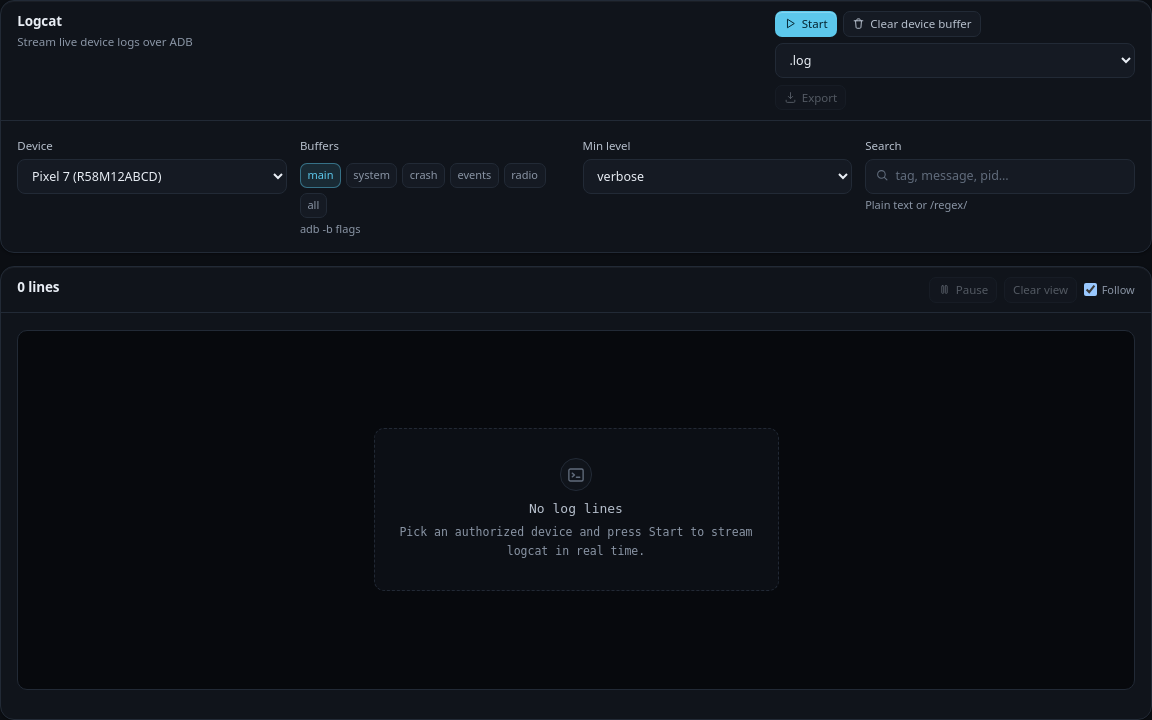
Test: LogcatView export › sends the selected format and the structured lines over IPC
This screenshot has width=1152, height=720.
Click the button "Start" at (806, 24), box x1=775 y1=11 x2=837 y2=37
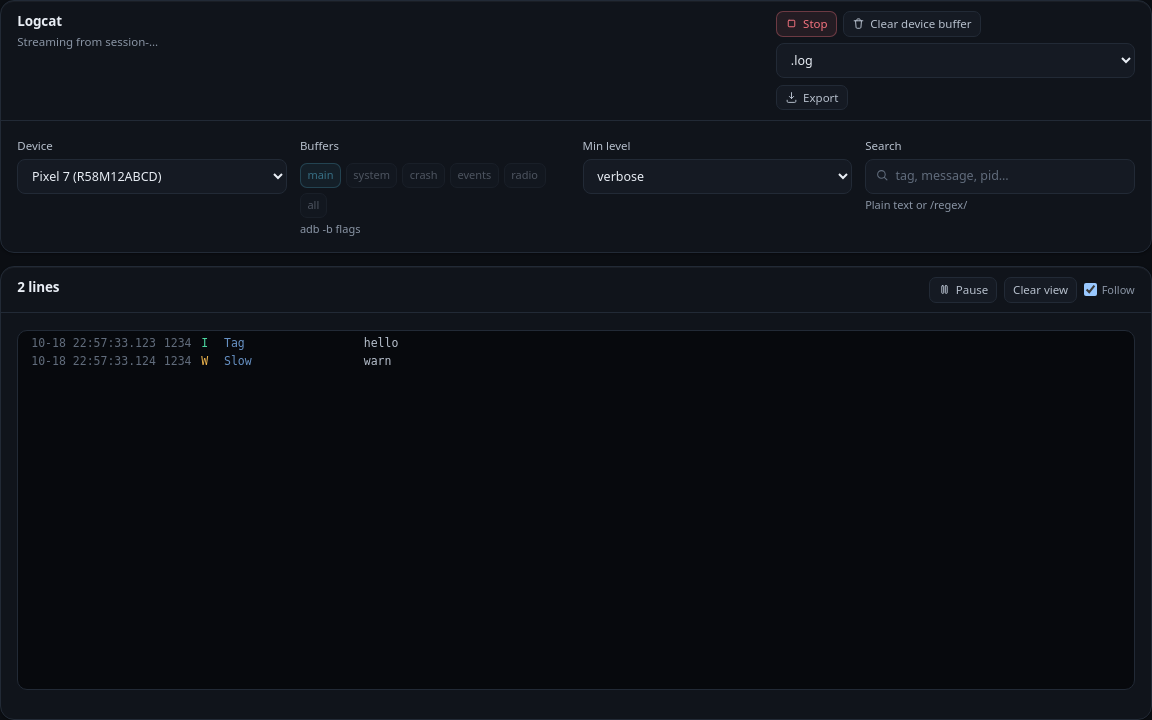
Expected: the text "hello" is shown, x1=364 y1=335 x2=398 y2=351
Select ".csv" in the dropdown named "Export format" at (955, 60), box x1=776 y1=43 x2=1135 y2=78
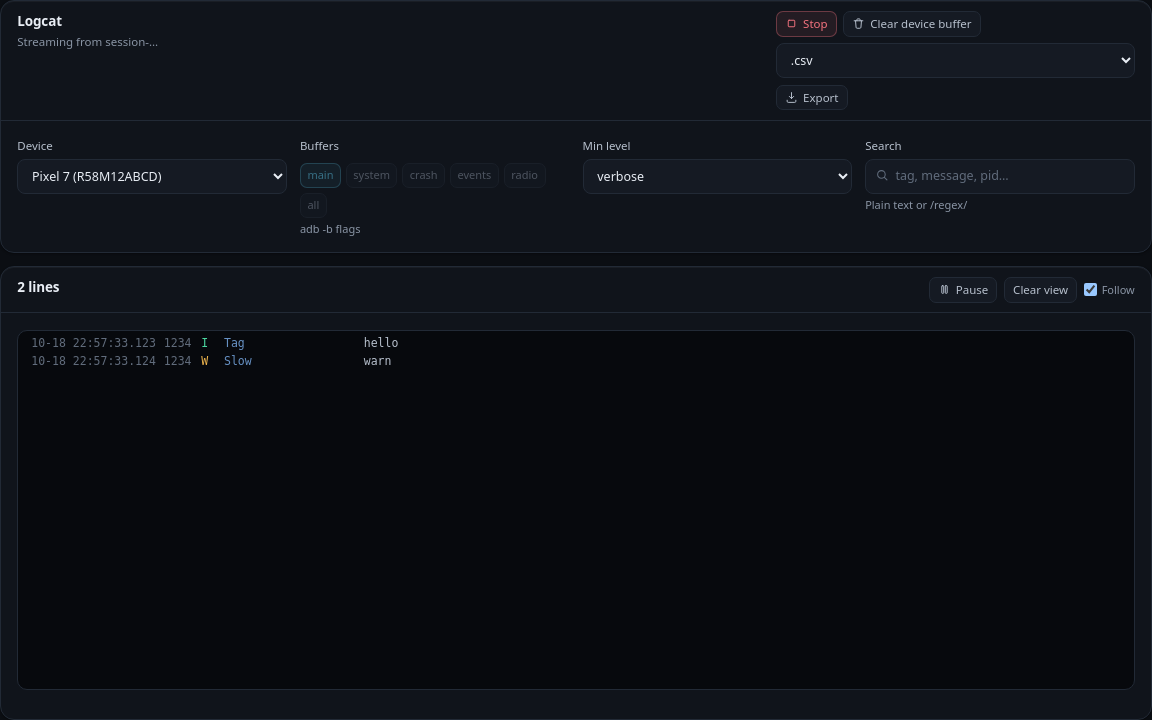
Click the button "Export" at (812, 97), box x1=776 y1=84 x2=848 y2=110
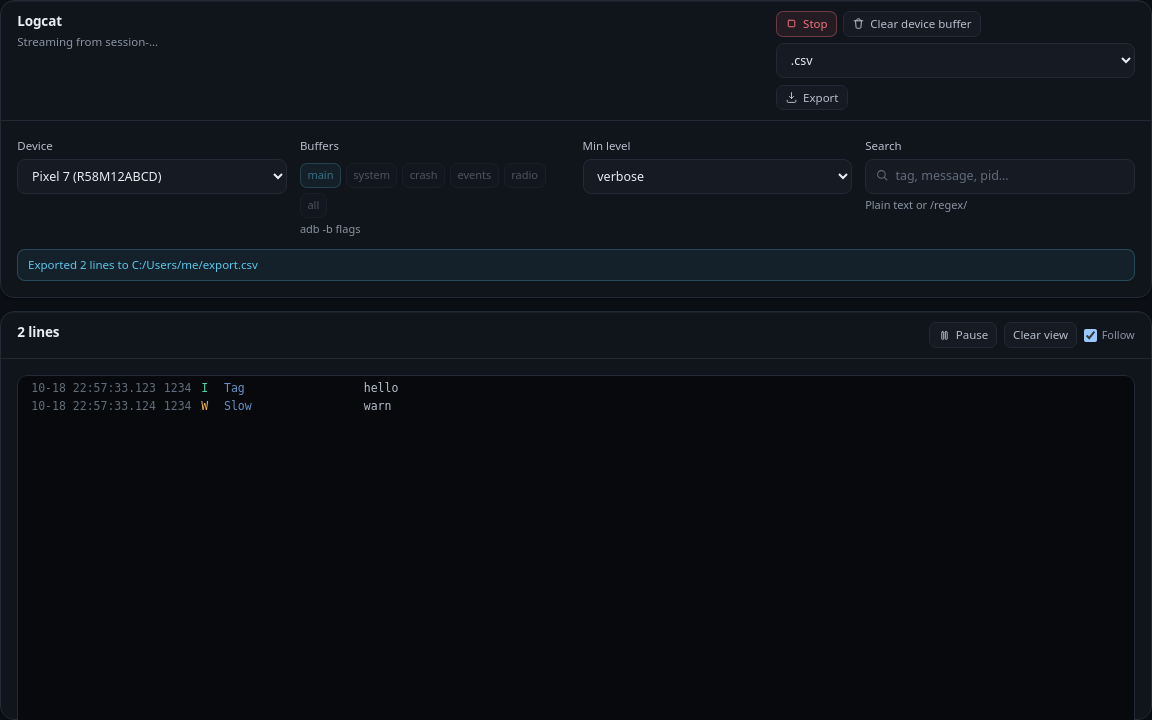
Expected: the text "Exported 2 lines to C:/Users/me/export.csv" is shown, x1=17 y1=249 x2=1135 y2=281
